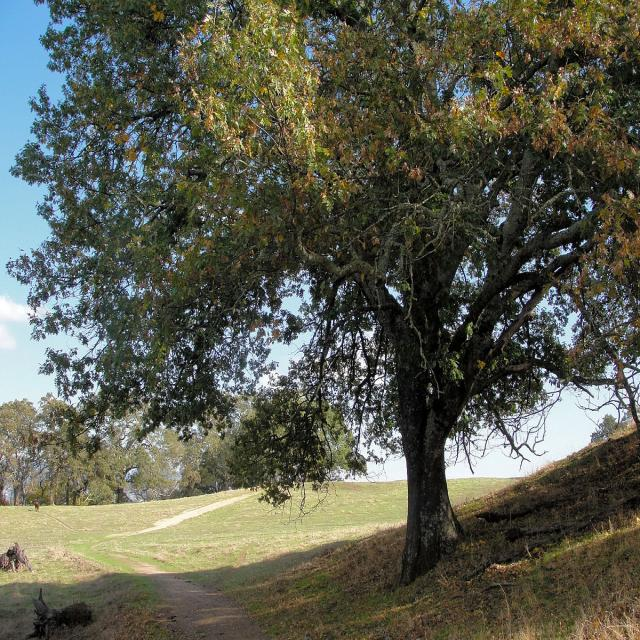Quercus kelloggii: (27, 0, 640, 566)
